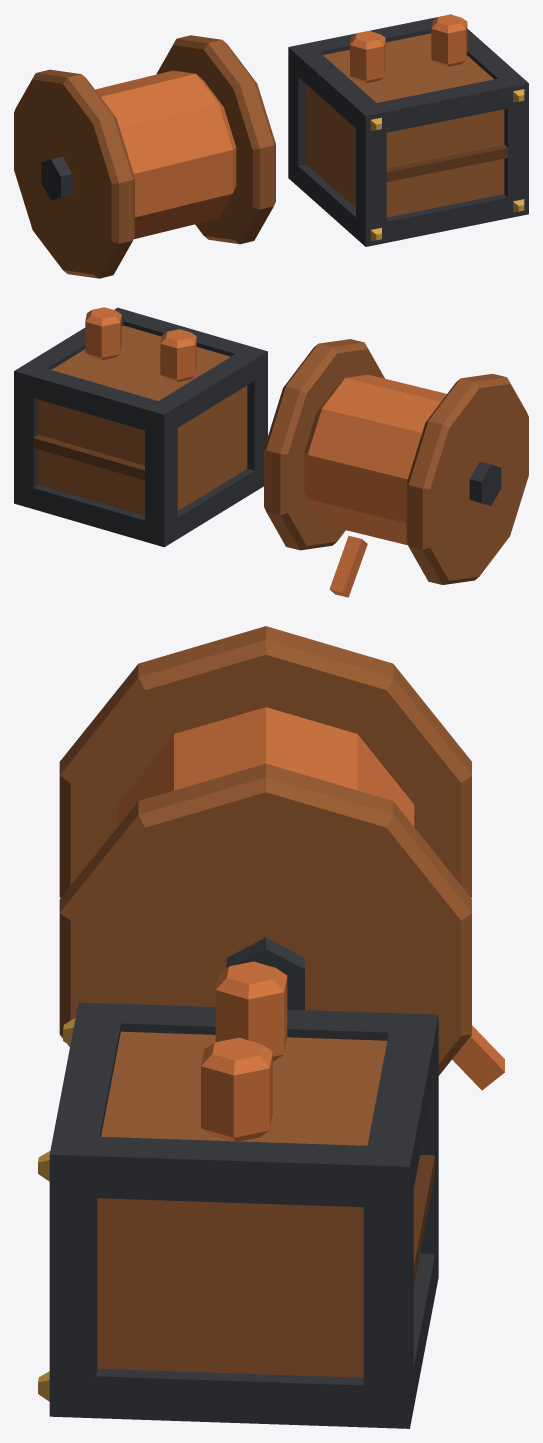
Rendered from TeslaKit4.obj.
The picture shows the model from 3 angles, top to bottom: view 1: azimuth 30°, elevation 25°; view 2: azimuth 150°, elevation 25°; view 3: azimuth 270°, elevation 25°; orthographic projection. The views are drawn at different scales.
Parts seen in each view (by area): view 1: TeslaKit4; view 2: TeslaKit4; view 3: TeslaKit4.
Part boxes in pixels (bbox=[...]): TeslaKit4: bbox=[14, 14, 528, 278]; TeslaKit4: bbox=[14, 307, 528, 597]; TeslaKit4: bbox=[38, 626, 504, 1428].
Size of the model in its own units: 0.5577 by 0.24 by 0.2586.
